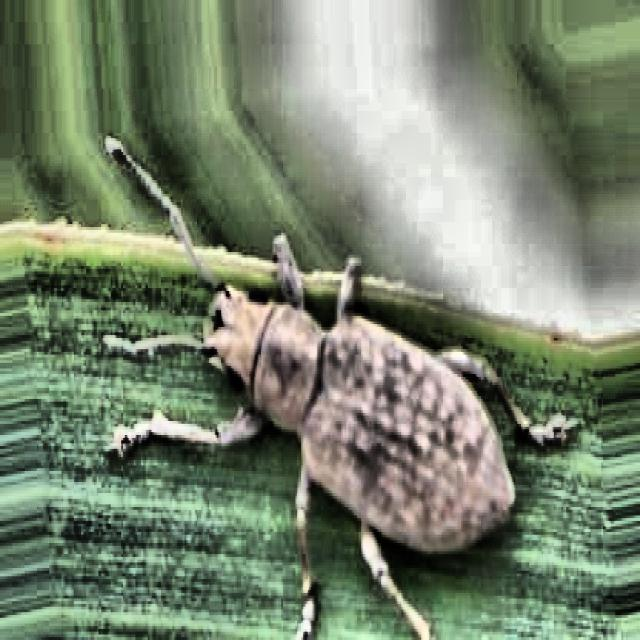Stink bug: (54, 176, 574, 636)
